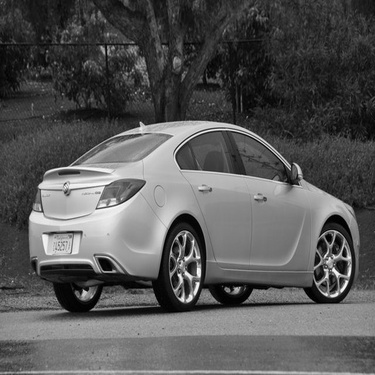car: (36, 116, 361, 302)
